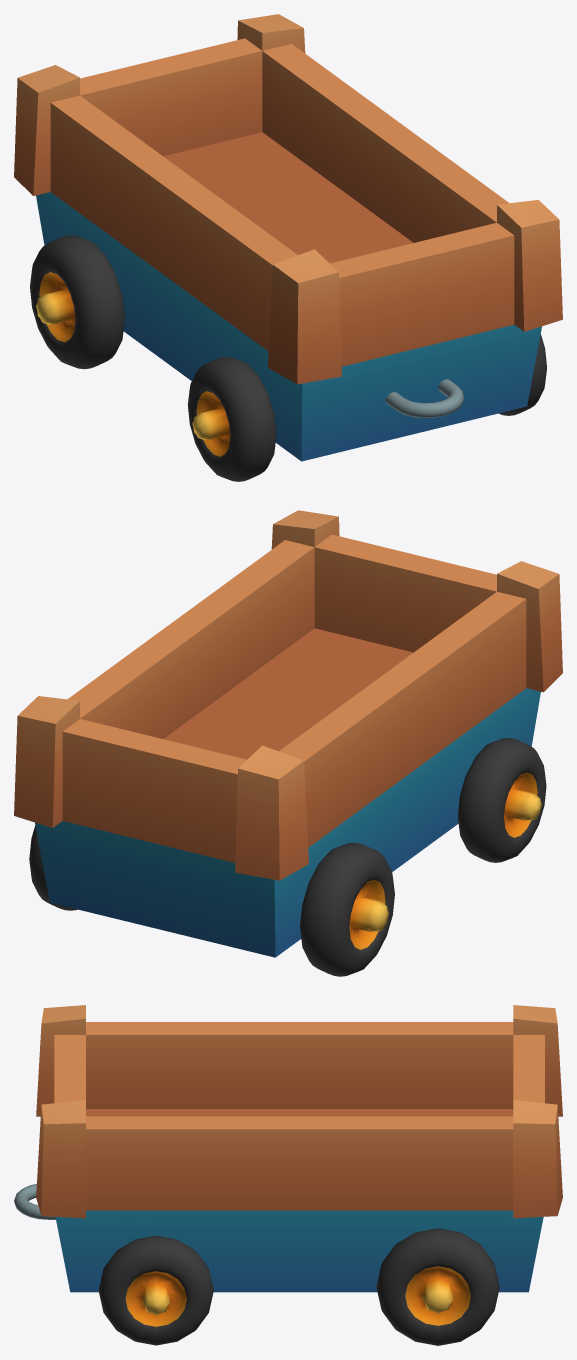
The model's file is TractorCaseBlue.fbx.
3 views of the same model, one above another, from view 1: azimuth 30°, elevation 25°; view 2: azimuth 150°, elevation 25°; view 3: azimuth 270°, elevation 25° (orthographic). The views are drawn at different scales.
Visible parts, largest first — view 1: TractorCase; view 2: TractorCase; view 3: TractorCase.
Part boxes in pixels (x1=…): TractorCase: x1=14, y1=14, x2=562, y2=481; TractorCase: x1=14, y1=510, x2=562, y2=976; TractorCase: x1=14, y1=1005, x2=562, y2=1345.
Bounding box in the file's own units: 0.7255 × 0.4935 × 1.1.
